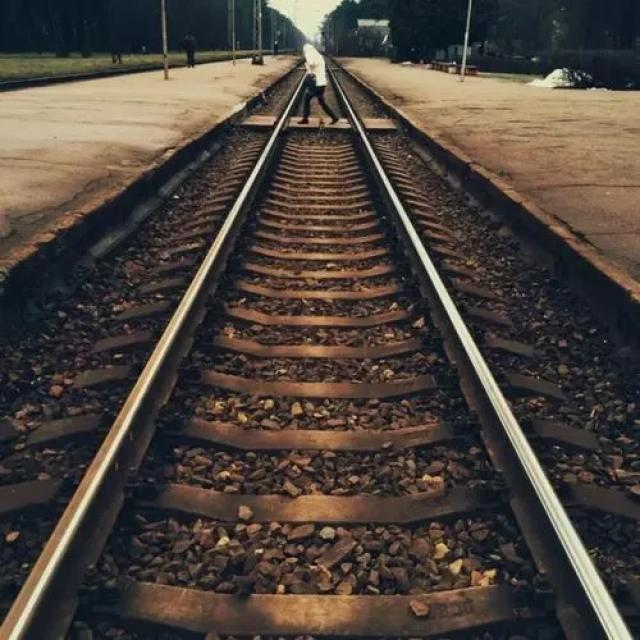people: (292, 46, 344, 133)
